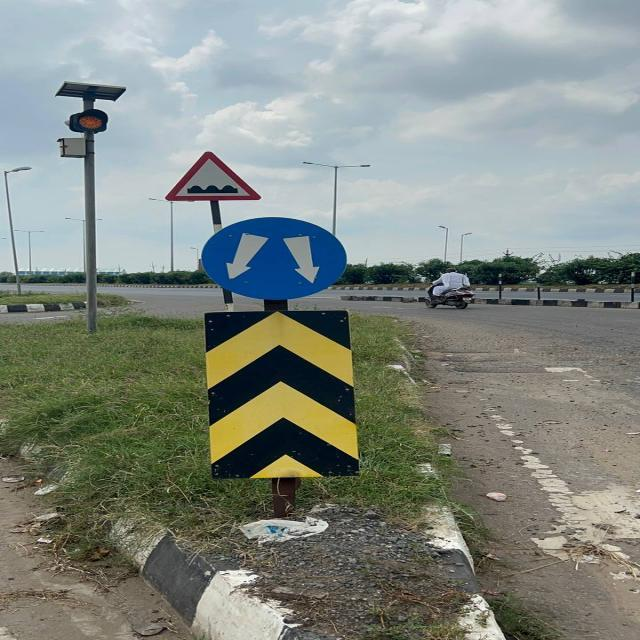pass either side: (203, 217, 346, 302)
